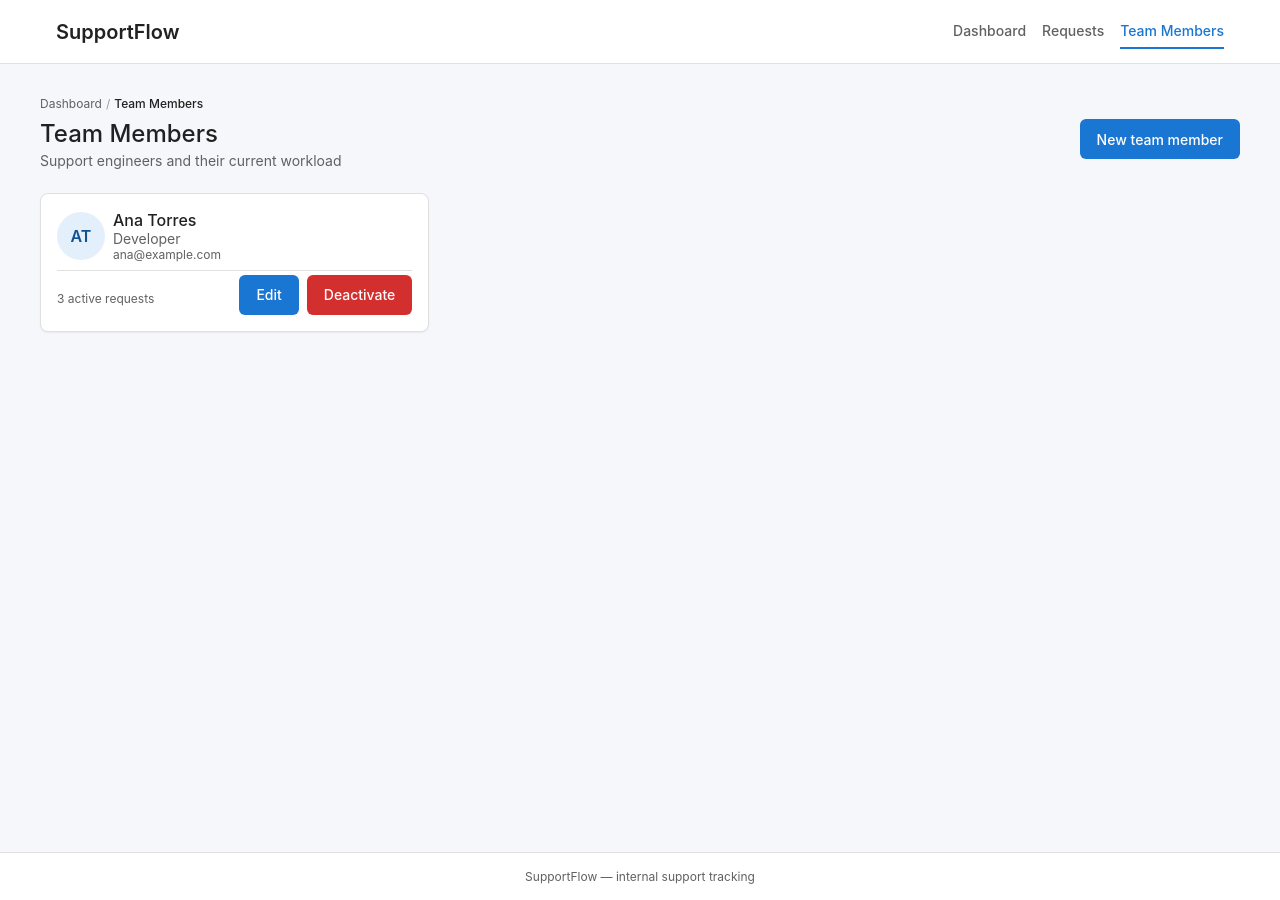
Test: TeamMembers › deactivating a member › does nothing when the dialog is canceled
What coordinates should you click on to do the following:
click the button "Deactivate"
I would click on:
 (360, 294)
Its box is [307, 274, 412, 314].
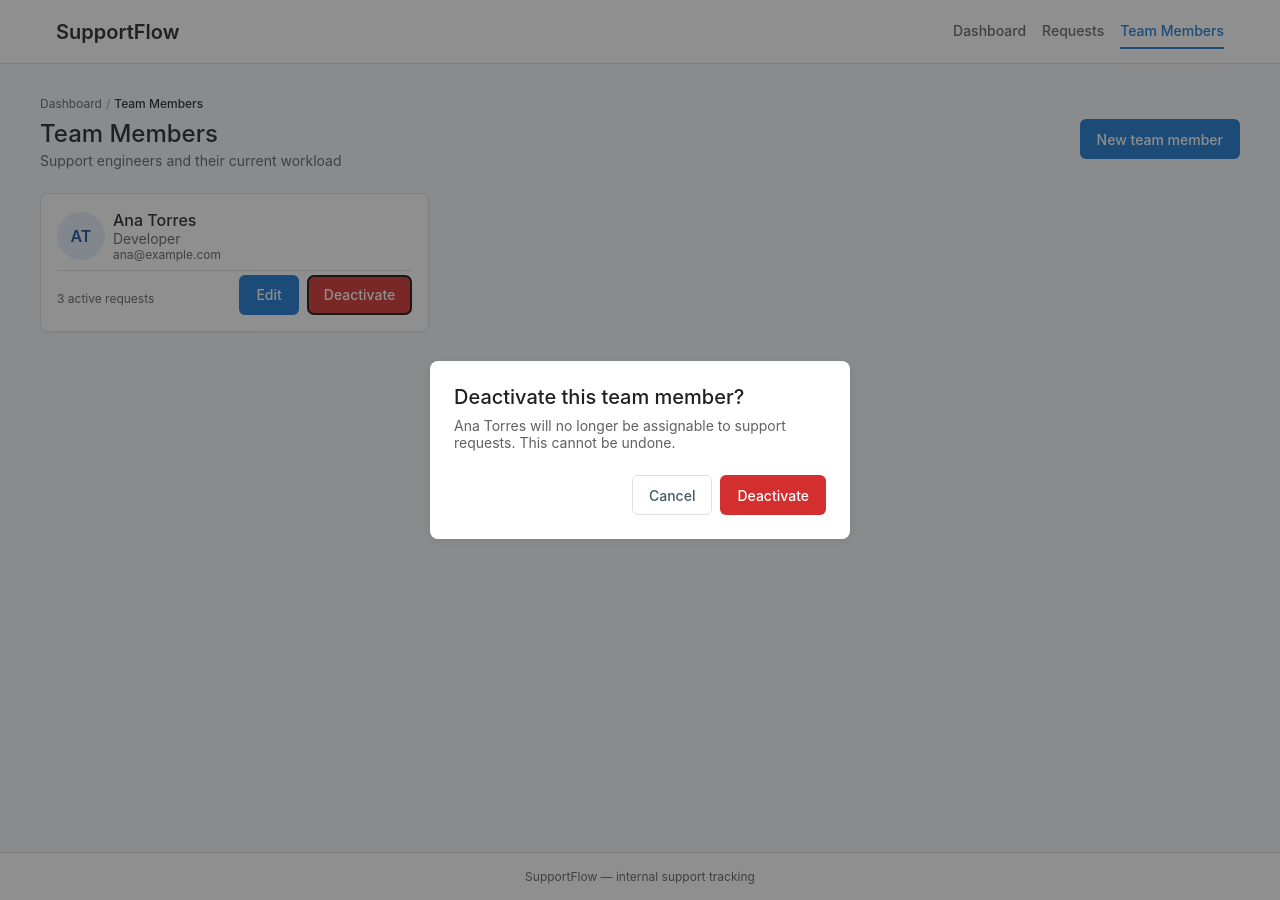
What coordinates should you click on to do the following:
click the button "Cancel"
I would click on:
 (672, 495)
Its box is [632, 475, 712, 515].
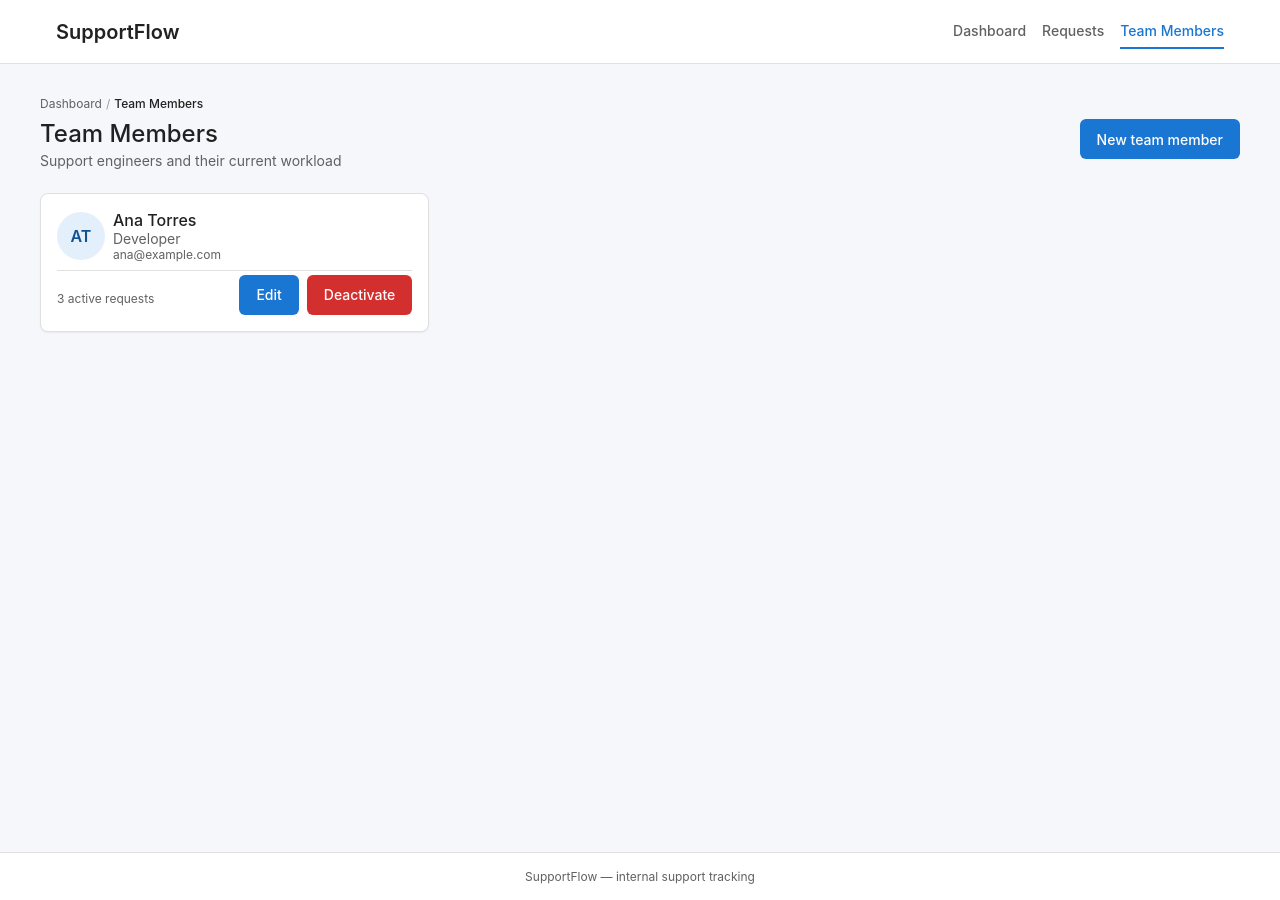
Expected: the dialog is gone
Expected: the number of buttons "Deactivate" is 1, [307, 274, 412, 314]
